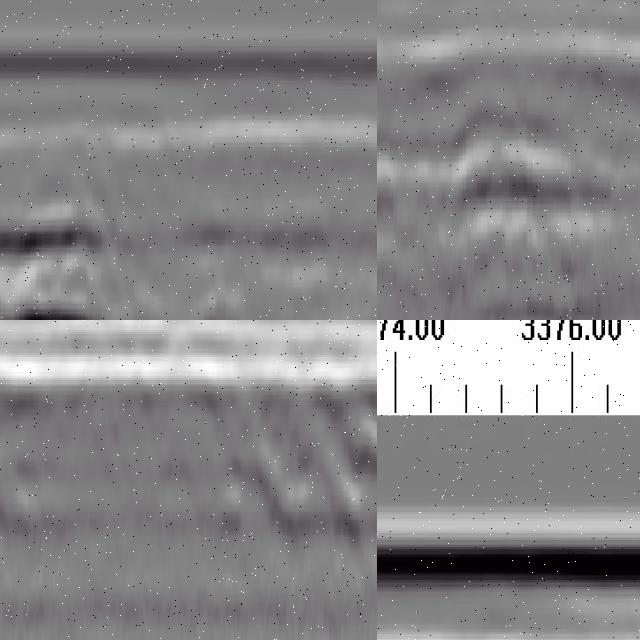loose: (202, 331, 378, 532), (378, 98, 605, 249), (1, 341, 90, 539), (1, 217, 136, 321)
